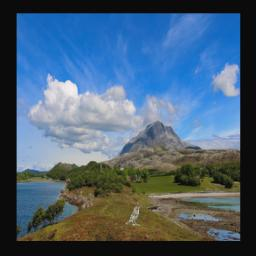Sparrow: (126, 206, 141, 227)
